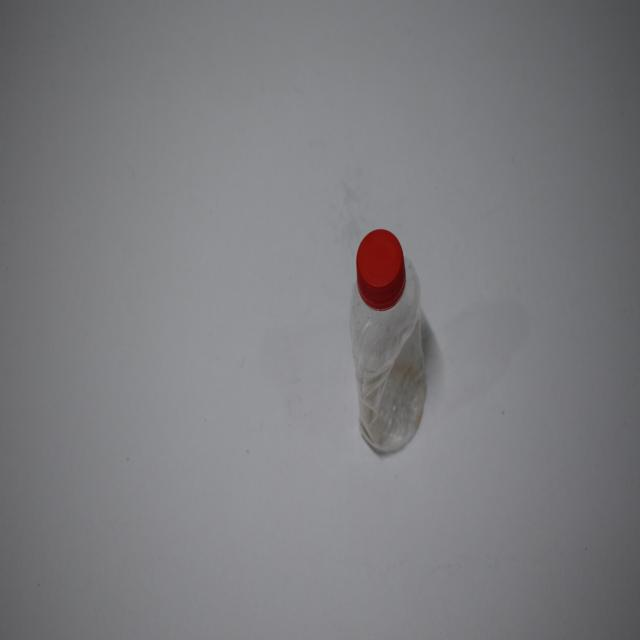bottle: (344, 226, 432, 468)
